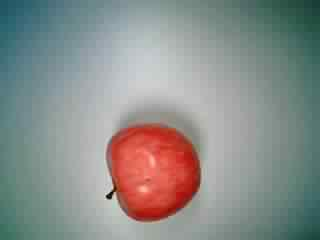apple: (100, 122, 204, 223)
